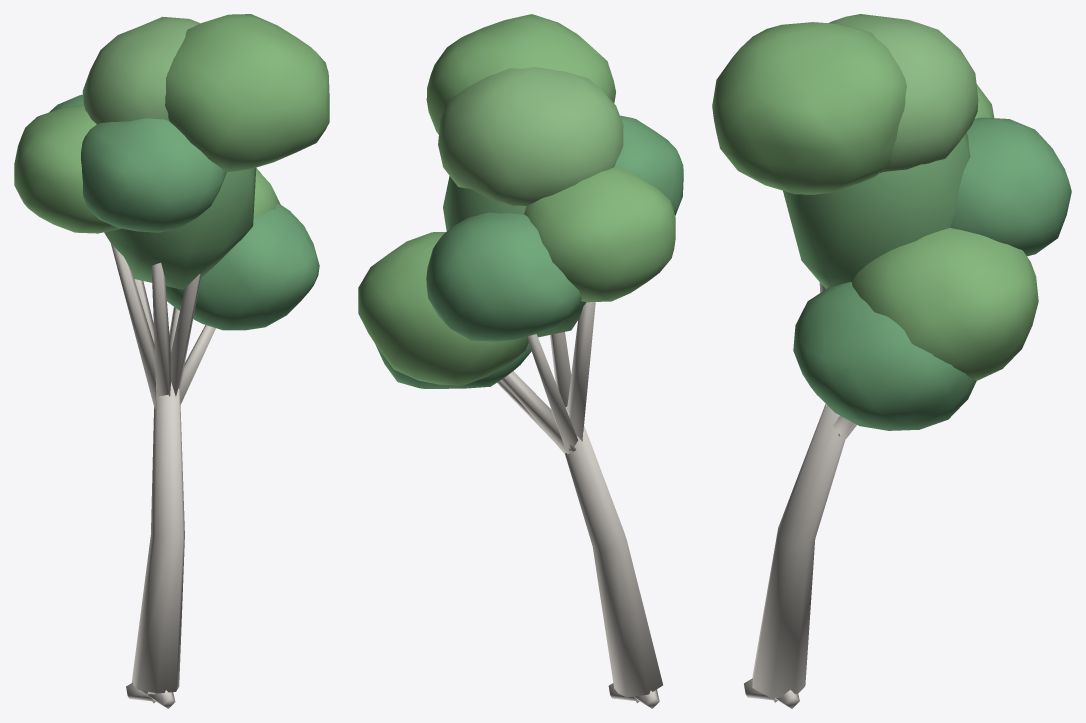
File: birch_b2.glb
3 views of the same model, side by side, from view 1: azimuth 30°, elevation 25°; view 2: azimuth 150°, elevation 25°; view 3: azimuth 270°, elevation 25° (orthographic). The views are drawn at different scales.
Parts seen in each view (by area): view 1: birch_b2; view 2: birch_b2; view 3: birch_b2.
Part boxes in pixels (<box>): birch_b2: <box>14,14,329,708</box>; birch_b2: <box>358,14,683,708</box>; birch_b2: <box>712,14,1071,708</box>.
Size of what is drawn, in the model's own units: 5.94 by 13 by 5.84.
